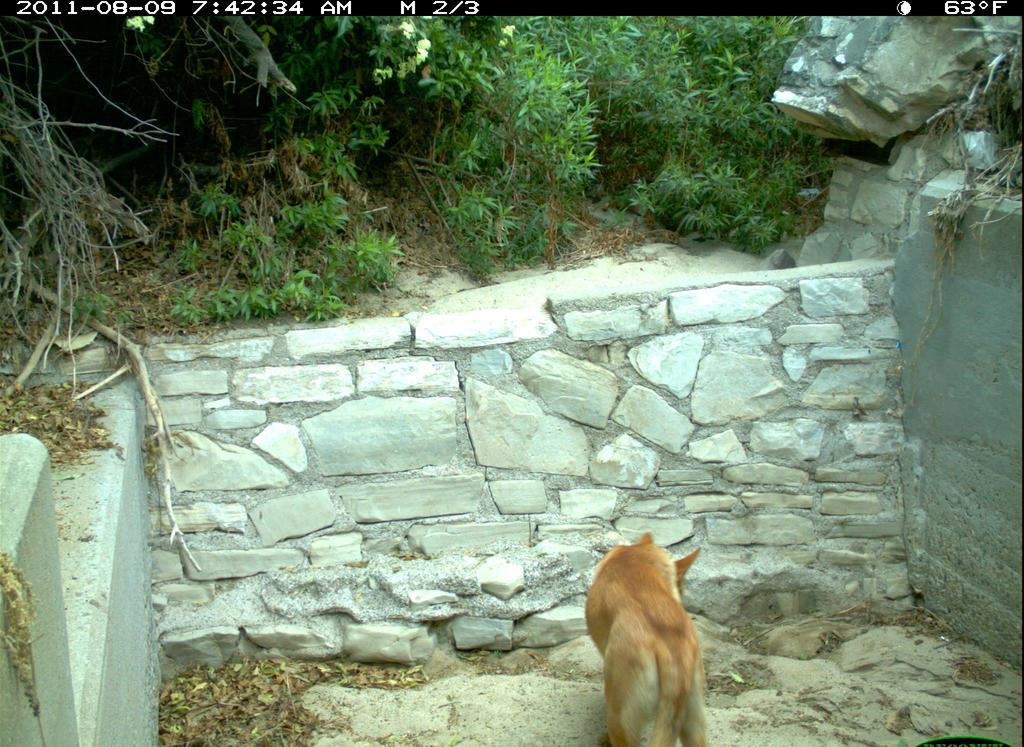dog: (547, 516, 737, 747)
